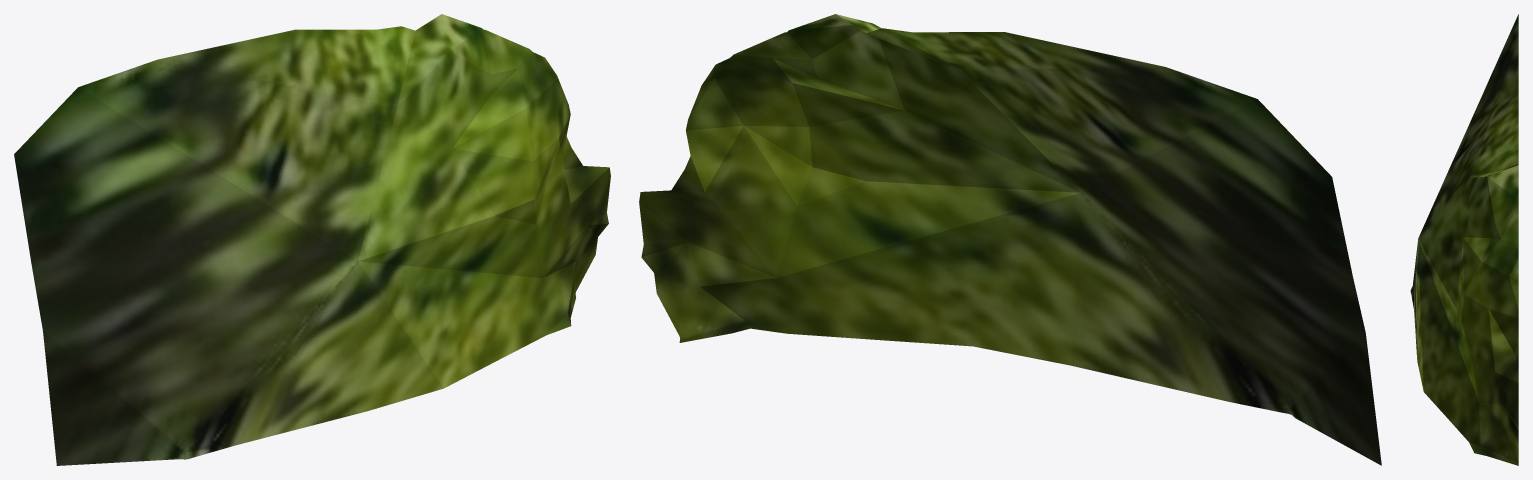
The picture shows the model from 3 angles, left to right: view 1: azimuth 30°, elevation 25°; view 2: azimuth 150°, elevation 25°; view 3: azimuth 270°, elevation 25°; orthographic projection. The views are drawn at different scales.
Bounding box in the file's own units: 1.47 × 0.7996 × 0.2929.
1 material, 1 textured.
